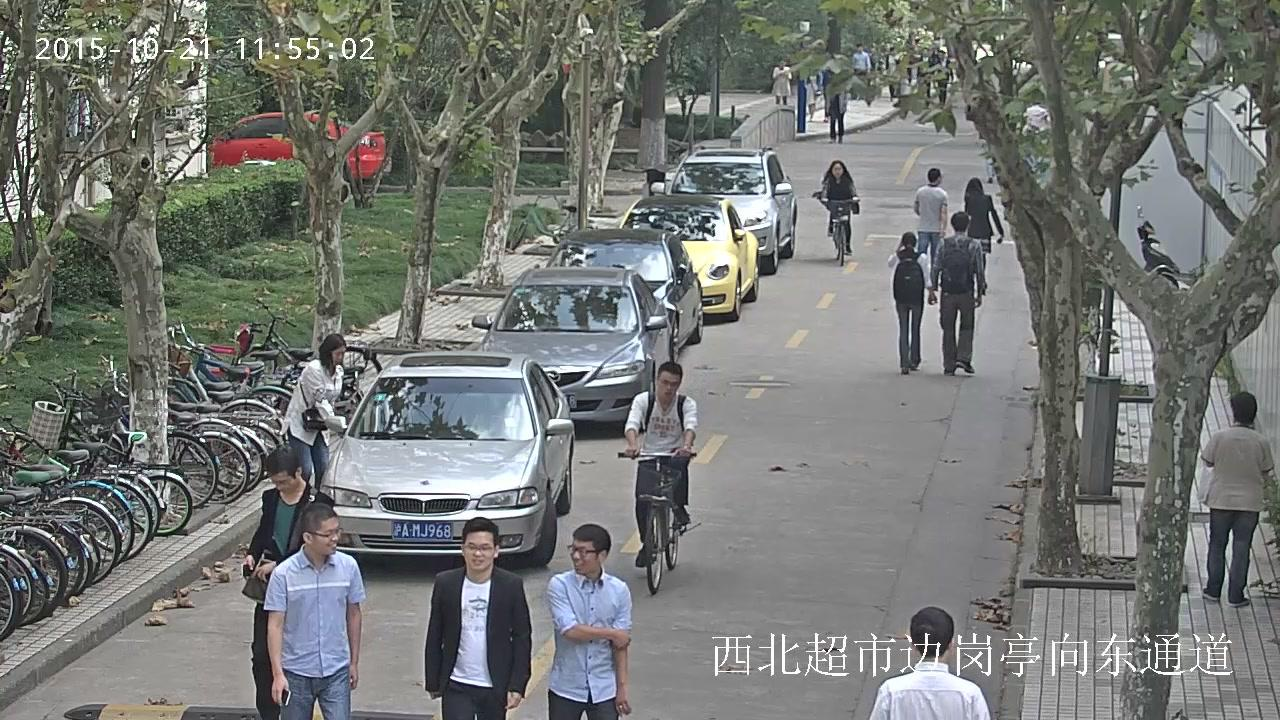person: (242, 447, 333, 720), (263, 502, 365, 720), (424, 517, 530, 720), (617, 361, 697, 594), (548, 523, 631, 720), (1199, 392, 1273, 607), (624, 361, 697, 567), (868, 607, 990, 720), (281, 334, 344, 490), (928, 211, 985, 377), (887, 232, 930, 374), (914, 167, 947, 304), (818, 160, 859, 265), (964, 177, 1002, 287), (819, 160, 859, 254), (821, 54, 845, 144), (1024, 96, 1049, 135), (772, 59, 791, 106), (936, 50, 950, 102), (853, 42, 870, 76), (806, 75, 818, 121)
